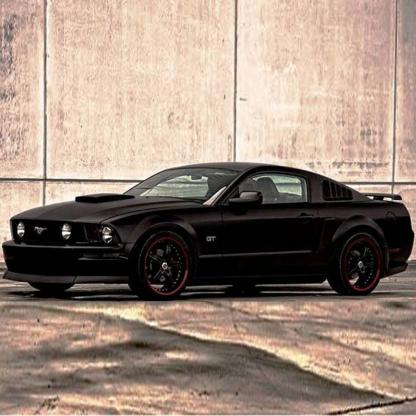Car: (1, 164, 416, 307)
